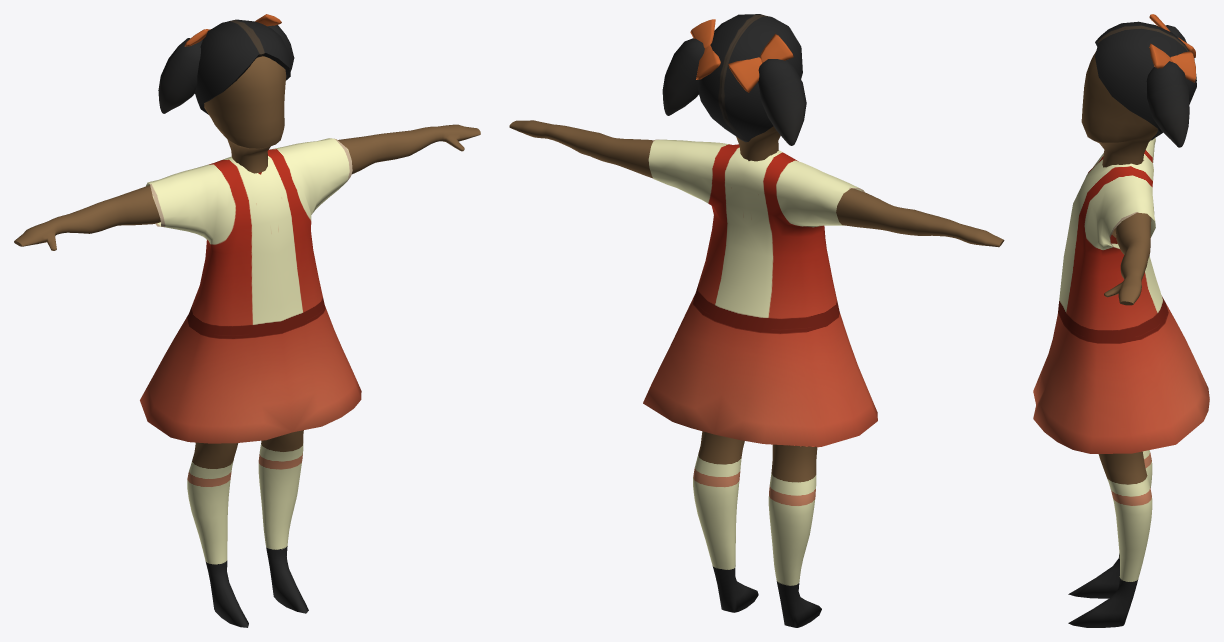
File: Daughter.fbx
The picture shows the model from 3 angles, left to right: view 1: azimuth 30°, elevation 25°; view 2: azimuth 150°, elevation 25°; view 3: azimuth 270°, elevation 25°; orthographic projection. The views are drawn at different scales.
Parts seen in each view (by area): view 1: DaughterDress, DaughterHead, DaughterLeg_R, DaughterLeg_L, DaughterHair1, DaughterArm_R, DaughterArm_L, DaughterPig_R; view 2: DaughterDress, DaughterLeg_R, DaughterHair1, DaughterLeg_L, DaughterArm_R, DaughterArm_L, DaughterPig_R, DaughterPig_L, DaughterBow_R, DaughterBow_L, DaughterHead; view 3: DaughterDress, DaughterLeg_L, DaughterHair1, DaughterHead, DaughterPig_L, DaughterArm_L, DaughterLeg_R, DaughterBow_L.
Boxes of the visible parts, box(x1,y1,x2,y2) form: DaughterDress: box(140, 138, 361, 443); DaughterHead: box(204, 56, 286, 173); DaughterLeg_R: box(187, 442, 248, 627); DaughterLeg_L: box(258, 430, 308, 613); DaughterHair1: box(195, 19, 290, 114); DaughterArm_R: box(14, 185, 160, 250); DaughterArm_L: box(338, 124, 480, 174); DaughterPig_R: box(158, 38, 202, 113); DaughterDress: box(643, 139, 877, 447); DaughterLeg_R: box(768, 444, 821, 627); DaughterHair1: box(698, 14, 802, 142); DaughterLeg_L: box(693, 431, 758, 612); DaughterArm_R: box(836, 188, 1004, 247); DaughterArm_L: box(509, 120, 653, 178); DaughterPig_R: box(758, 59, 806, 145); DaughterPig_L: box(662, 38, 704, 115); DaughterBow_R: box(728, 33, 793, 92); DaughterBow_L: box(690, 19, 720, 79); DaughterHead: box(736, 126, 780, 161); DaughterDress: box(1033, 138, 1209, 453); DaughterLeg_L: box(1068, 451, 1152, 627); DaughterHair1: box(1095, 21, 1196, 140); DaughterHead: box(1081, 51, 1157, 167); DaughterPig_L: box(1146, 61, 1189, 147); DaughterArm_L: box(1104, 212, 1151, 305); DaughterLeg_R: box(1068, 450, 1152, 598); DaughterBow_L: box(1149, 43, 1196, 82).
Size of the model in its own units: 18.55 by 21.89 by 6.02.
